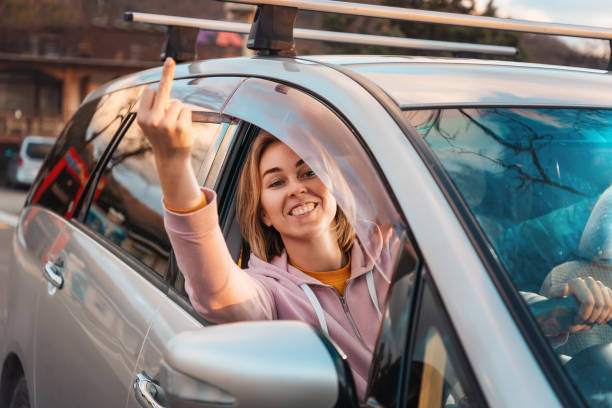insulting_gesture: (137, 54, 196, 167)
